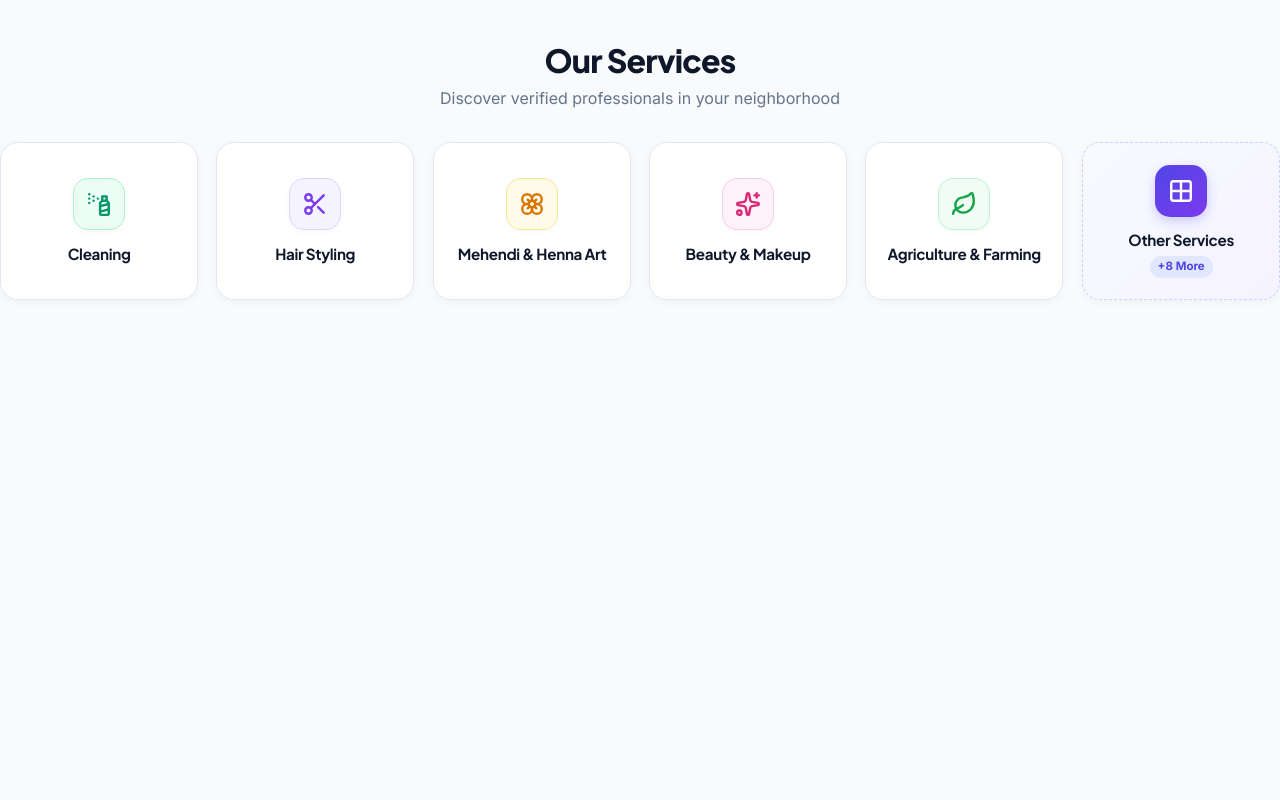
Test: VEGA ServicesSection Component › expands remaining services and reveals search input when "Other Services" card is clicked
The width and height of the screenshot is (1280, 800).
What coordinates should you click on to do the following:
click the heading "Other Services"
I would click on:
 (1181, 240)
Its box is [1128,230,1234,250].
(page scrolled)
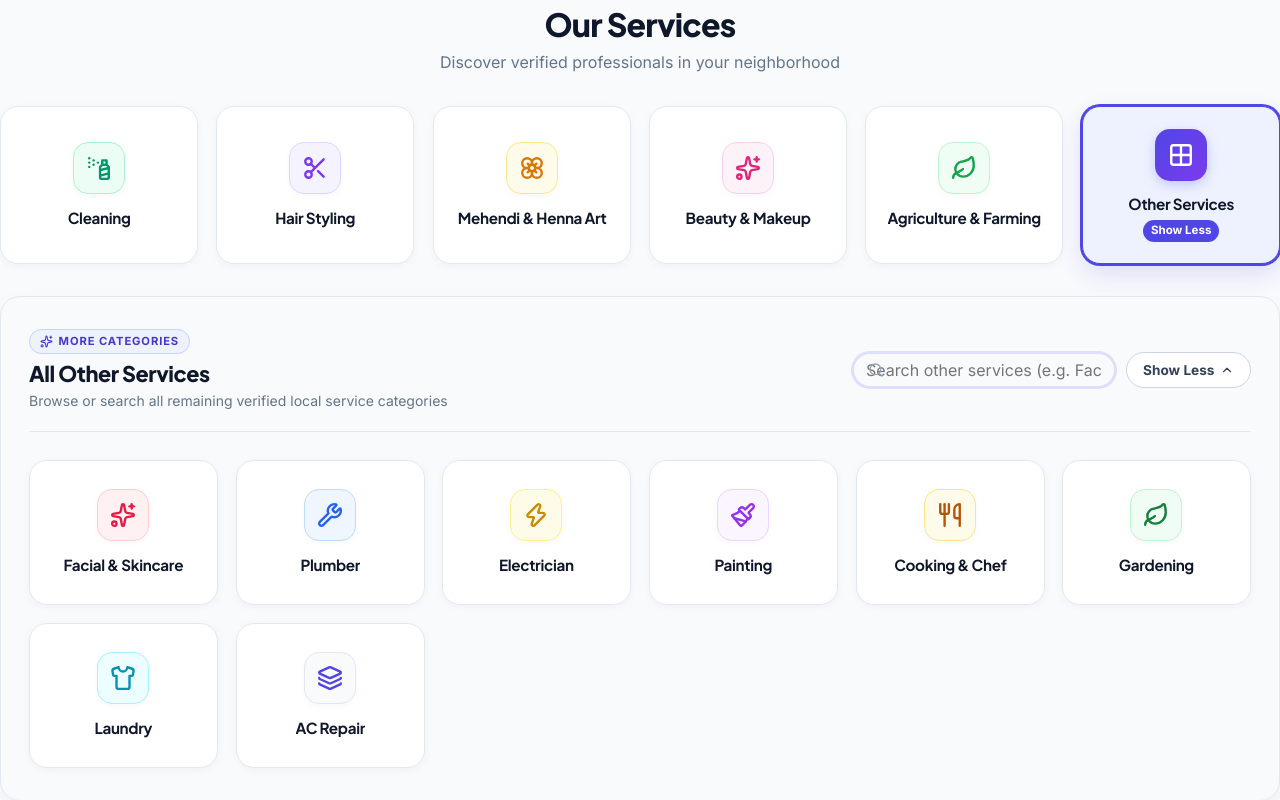
Result: the heading "Plumber" is shown at [300,555,360,576]
Result: the heading "Electrician" is shown at [499,555,574,576]
Result: the heading "Facial & Skincare" is shown at [63,555,183,576]
